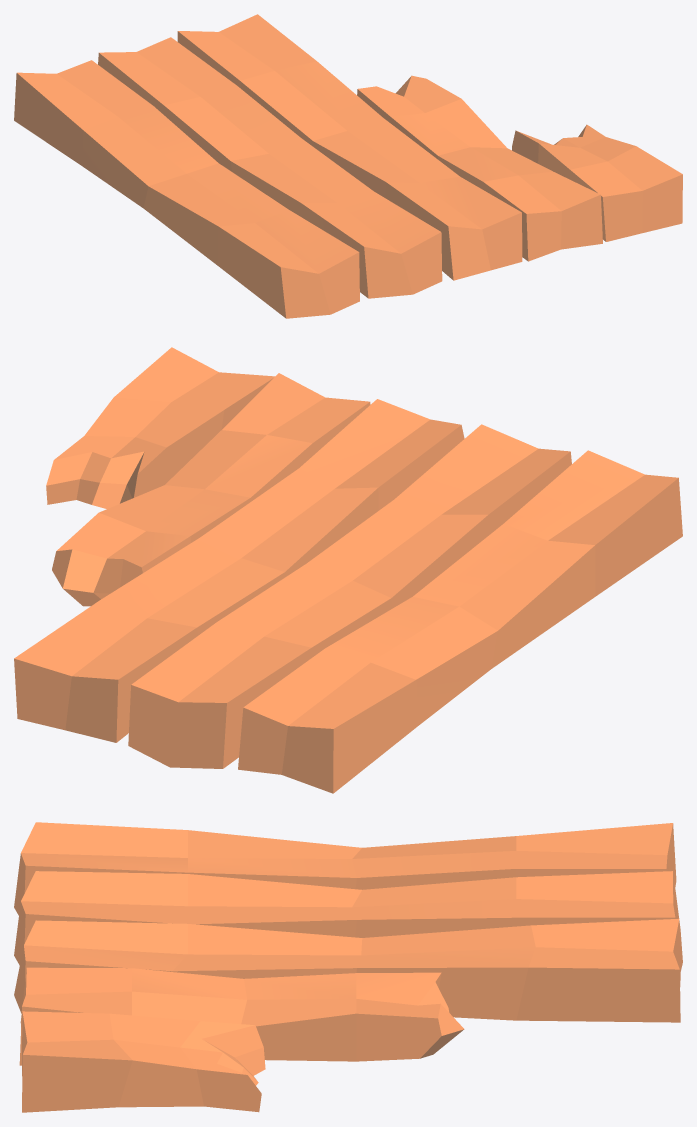
File: PlatformS_Wood4.fbx
The picture shows the model from 3 angles, top to bottom: view 1: azimuth 30°, elevation 25°; view 2: azimuth 150°, elevation 25°; view 3: azimuth 270°, elevation 25°; orthographic projection. The views are drawn at different scales.
Parts seen in each view (by area): view 1: WoodPlank6, WoodPlank4, WoodPlank5, WoodPlank7, WoodPlank11; view 2: WoodPlank6, WoodPlank4, WoodPlank5, WoodPlank7, WoodPlank11; view 3: WoodPlank5, WoodPlank4, WoodPlank6, WoodPlank7, WoodPlank11.
Boxes of the visible parts, x1,y1,x2,y2 form: WoodPlank6: (14, 60, 359, 318); WoodPlank4: (98, 37, 442, 298); WoodPlank5: (177, 14, 522, 280); WoodPlank7: (357, 75, 602, 261); WoodPlank11: (512, 124, 682, 241); WoodPlank6: (238, 450, 682, 793); WoodPlank4: (128, 424, 571, 768); WoodPlank5: (14, 399, 464, 742); WoodPlank7: (52, 373, 370, 606); WoodPlank11: (46, 347, 274, 508); WoodPlank5: (14, 918, 680, 1022); WoodPlank4: (14, 871, 682, 971); WoodPlank6: (14, 822, 676, 915); WoodPlank7: (19, 967, 464, 1065); WoodPlank11: (22, 1011, 265, 1112).
Size of the model in its own units: 326 by 44.35 by 396.
